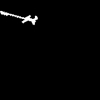double_crochet: (0, 11, 37, 23)
